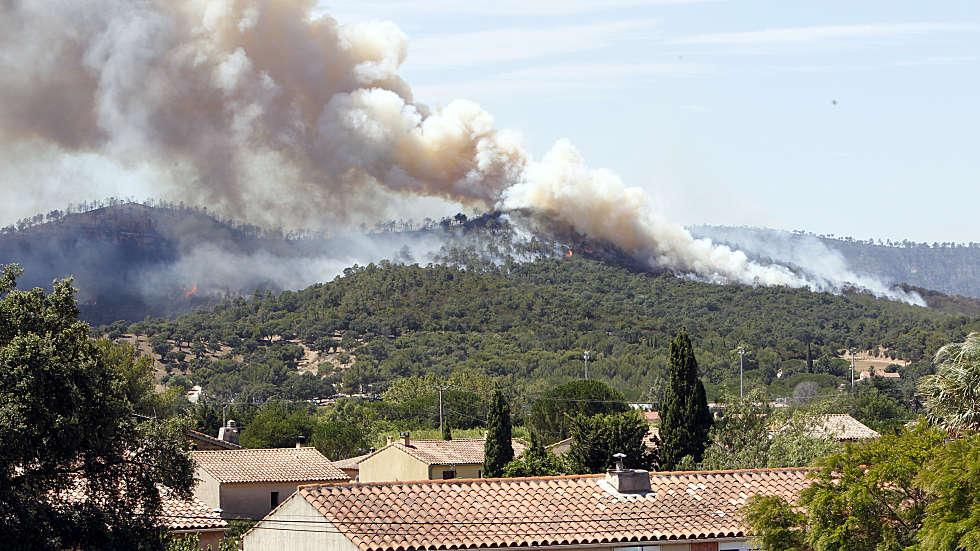smoke: (257, 4, 815, 292), (1, 1, 404, 244), (735, 229, 931, 312)
